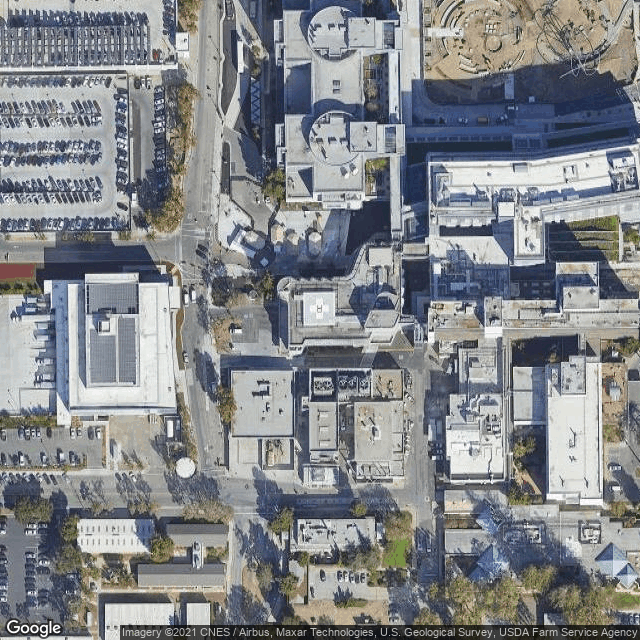Helipad: (302, 290, 336, 328)
